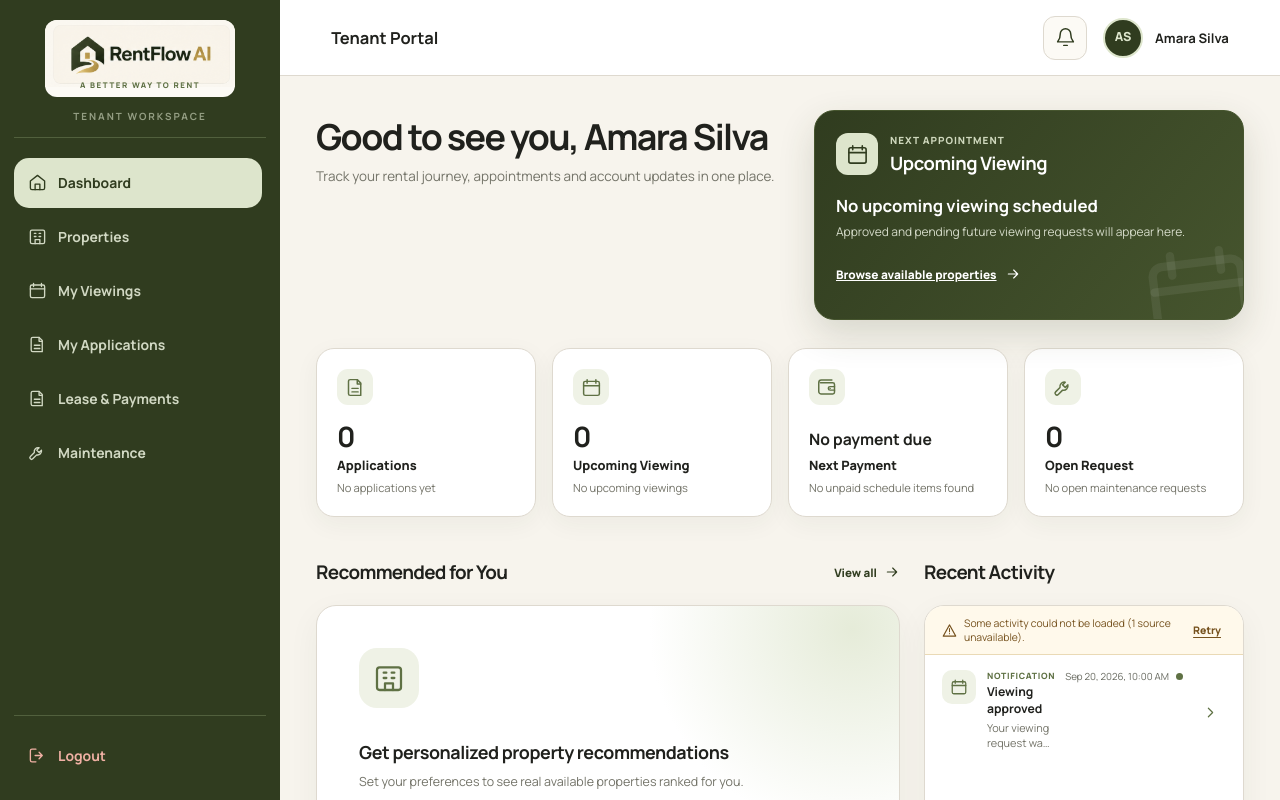
tenant dashboard › keeps available activity visible when one source fails and retries that source
The width and height of the screenshot is (1280, 800).
Expected: the text "Some activity could not be loaded (1 source unavailable)." is shown, [964, 616, 1181, 645]
Expected: the text "Viewing approved" is shown, [987, 683, 1042, 717]
Click the button "Retry" at (1207, 630), box [1188, 615, 1226, 645]
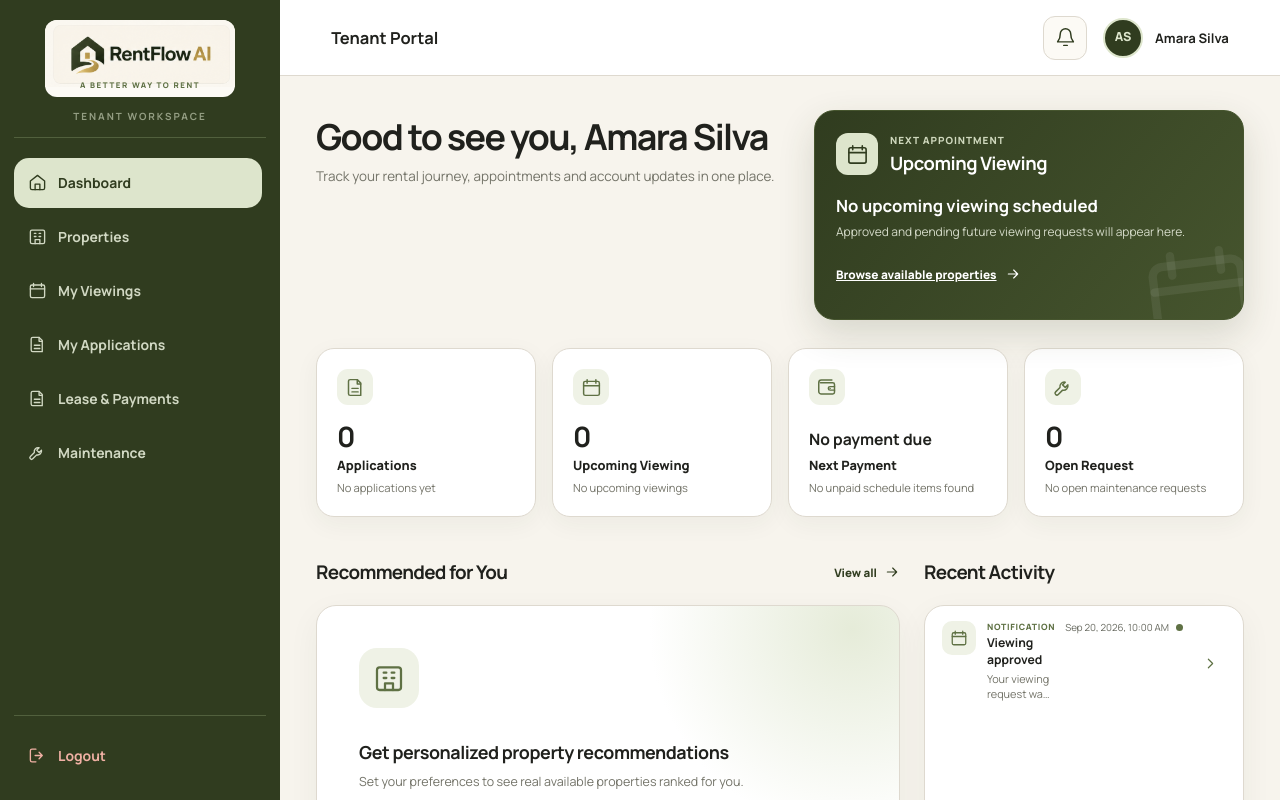
Expected: the text "Viewing approved" is shown, [987, 634, 1042, 668]
Result: the text "source unavailable" is gone
